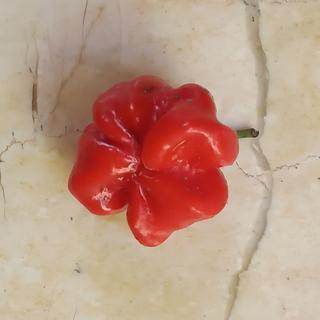Grade-B: (61, 67, 243, 249)
